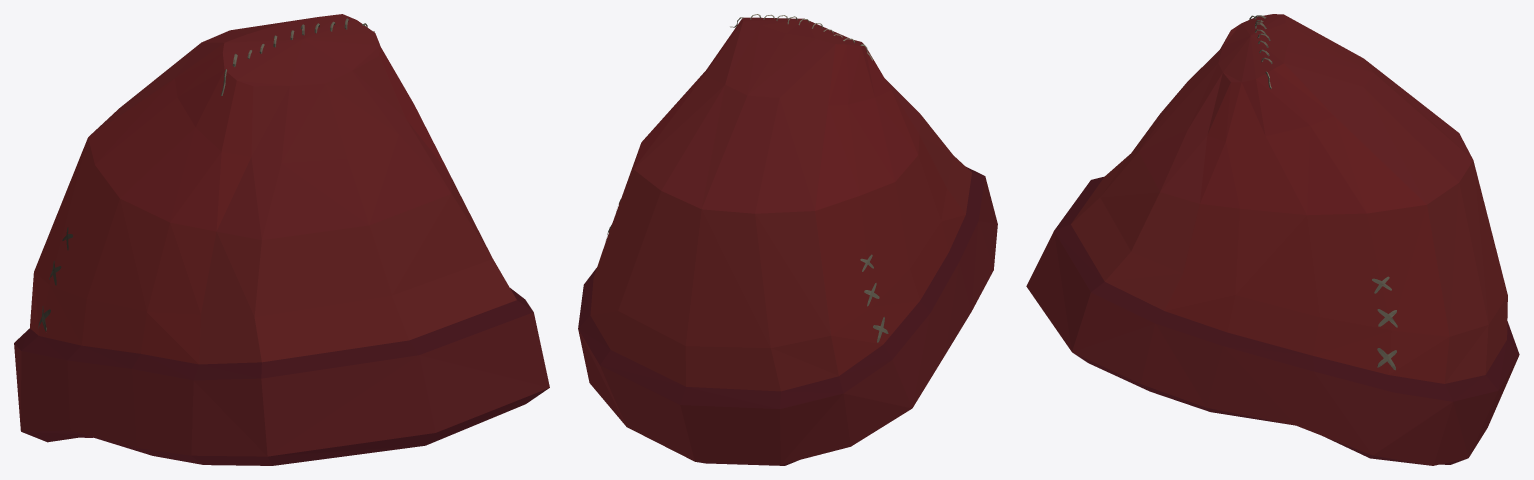
File: smallHatColored.glb
3 views of the same model, side by side, from view 1: azimuth 30°, elevation 25°; view 2: azimuth 150°, elevation 25°; view 3: azimuth 270°, elevation 25° (orthographic). The views are drawn at different scales.
Parts seen in each view (by area): view 1: smallHatColored; view 2: smallHatColored; view 3: smallHatColored.
Boxes of the visible parts, box(x1,y1,x2,y2) form: smallHatColored: box(14, 14, 549, 465); smallHatColored: box(578, 14, 997, 465); smallHatColored: box(1026, 14, 1519, 465).
Size of the model in its own units: 0.2654 by 0.2906 by 0.3192.
